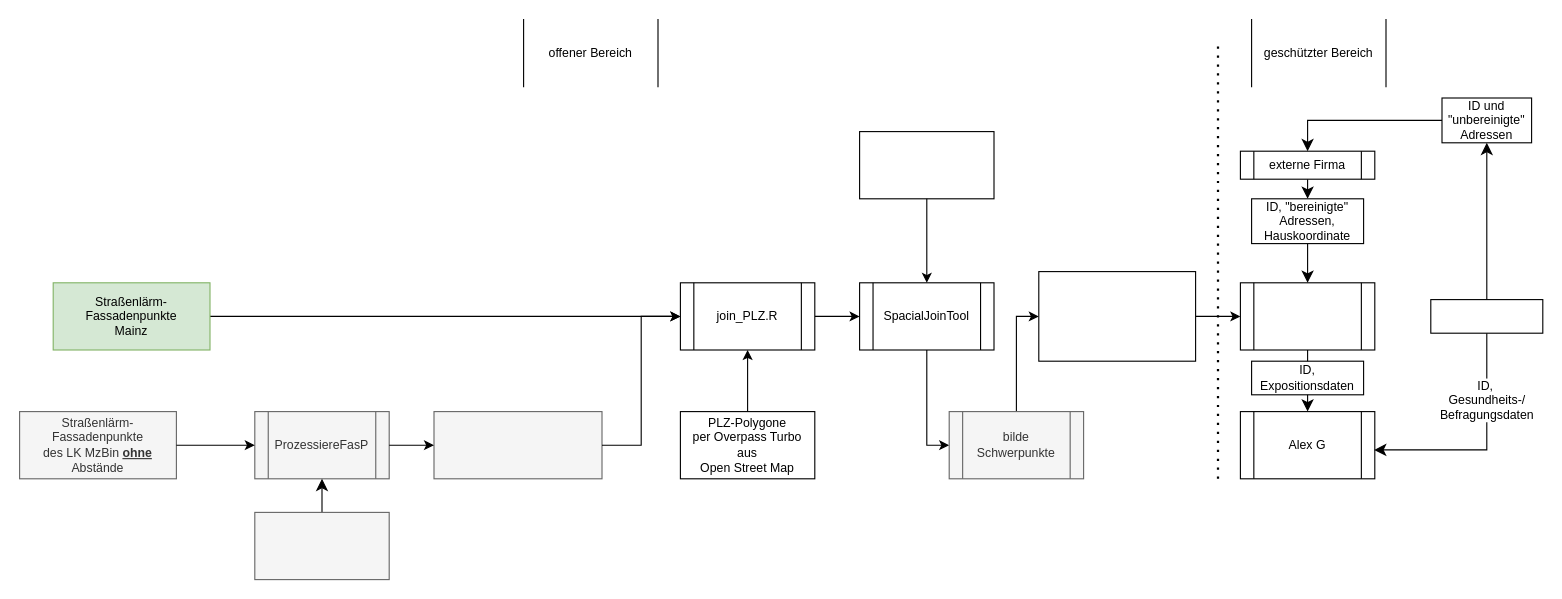
This 1562x599 diagram has some shape labels left out. The shapes that lost their labels are listed below. From the top down, each one's centre as x and y in pixels, then its label:
point (926, 164): viele Expositionsdaten: (z.B. Fluglärm, greenness, Temperatur,...)
point (1117, 315): Fassadenpunkt-(Schwerpunkte) mit Adressen und (vielen) Expositionsdaten
point (1307, 316): Alex S, Tabea: 1. Adress-Fuzzy join 2. Lagebezogen
point (1486, 315): GHS -Teilnehmerdaten
point (517, 444): Straßenlärm-Fassadenpunkte des LK MzBin mit Abständen (ohne PLZ)
point (321, 545): Straßennetz
